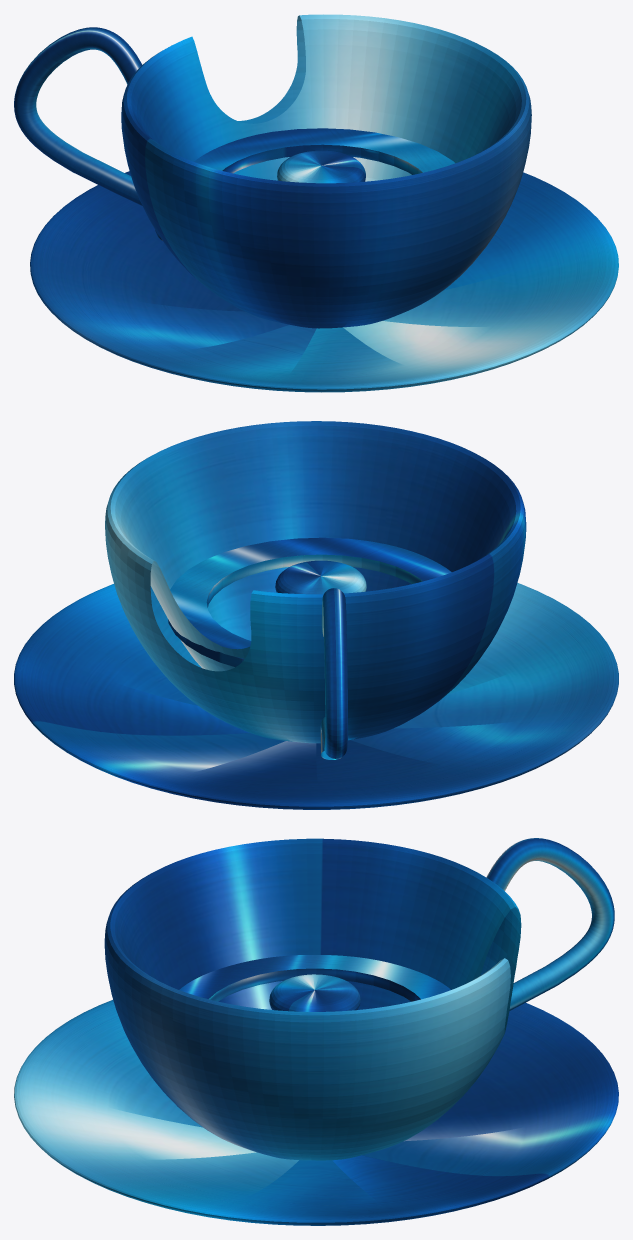
File: tasa.obj
The picture shows the model from 3 angles, top to bottom: view 1: azimuth 30°, elevation 25°; view 2: azimuth 150°, elevation 25°; view 3: azimuth 270°, elevation 25°; orthographic projection. The views are drawn at different scales.
Visible parts, largest first — view 1: Ride_Surface_Teacup_1_Boole4_Subdivision_Surface2_Sphere4, Ride_Surface_Teacup_1_Subdivision_Surface_12_Sphere2, Ride_Surface_Teacup_1_Sweep3, Ride_Surface_Teacup_1_Cylinder_12_Tube5, Ride_Surface_Teacup_1_Cylinder1; view 2: Ride_Surface_Teacup_1_Boole4_Subdivision_Surface2_Sphere4, Ride_Surface_Teacup_1_Subdivision_Surface_12_Sphere2, Ride_Surface_Teacup_1_Cylinder_12_Tube5, Ride_Surface_Teacup_1_Sweep3, Ride_Surface_Teacup_1_Cylinder1; view 3: Ride_Surface_Teacup_1_Boole4_Subdivision_Surface2_Sphere4, Ride_Surface_Teacup_1_Subdivision_Surface_12_Sphere2, Ride_Surface_Teacup_1_Sweep3, Ride_Surface_Teacup_1_Cylinder_12_Tube5, Ride_Surface_Teacup_1_Cylinder1.
Part boxes in pixels (x1,y1,x2,y2): Ride_Surface_Teacup_1_Boole4_Subdivision_Surface2_Sphere4: (121,14,531,328); Ride_Surface_Teacup_1_Subdivision_Surface_12_Sphere2: (30,171,618,392); Ride_Surface_Teacup_1_Sweep3: (14,27,162,240); Ride_Surface_Teacup_1_Cylinder_12_Tube5: (194,128,454,174); Ride_Surface_Teacup_1_Cylinder1: (277,150,365,183); Ride_Surface_Teacup_1_Boole4_Subdivision_Surface2_Sphere4: (105,421,526,743); Ride_Surface_Teacup_1_Subdivision_Surface_12_Sphere2: (14,583,618,809); Ride_Surface_Teacup_1_Cylinder_12_Tube5: (168,537,451,667); Ride_Surface_Teacup_1_Sweep3: (320,588,347,759); Ride_Surface_Teacup_1_Cylinder1: (275,560,366,594); Ride_Surface_Teacup_1_Boole4_Subdivision_Surface2_Sphere4: (104,838,521,1160); Ride_Surface_Teacup_1_Subdivision_Surface_12_Sphere2: (14,1000,618,1225); Ride_Surface_Teacup_1_Sweep3: (486,838,614,1010); Ride_Surface_Teacup_1_Cylinder_12_Tube5: (179,955,450,1001); Ride_Surface_Teacup_1_Cylinder1: (269,974,360,1011).
Bounding box in the file's own units: 4.09 × 1.81 × 4.09.
4 materials, 3 textured.
